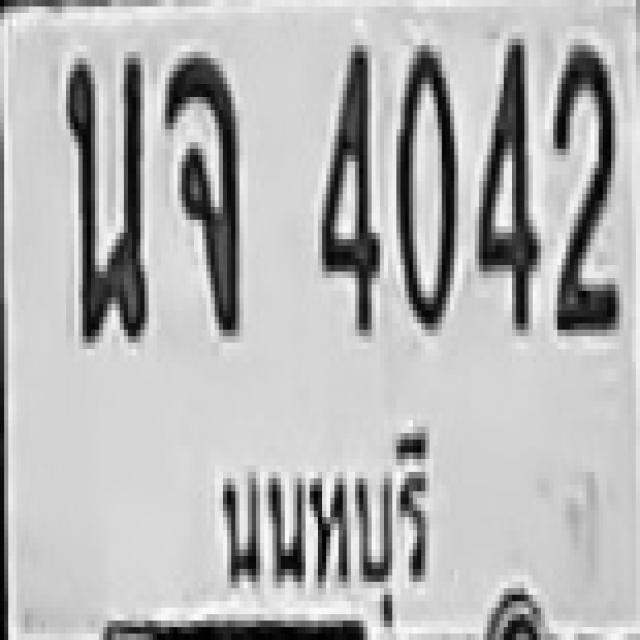0: (392, 39, 454, 323)
17ChorChan: (161, 52, 235, 330)
2: (547, 38, 613, 330)
34NorNu: (62, 52, 144, 336)
4: (475, 32, 537, 324), (318, 36, 376, 327)
Nonthaburi: (200, 405, 447, 625)
